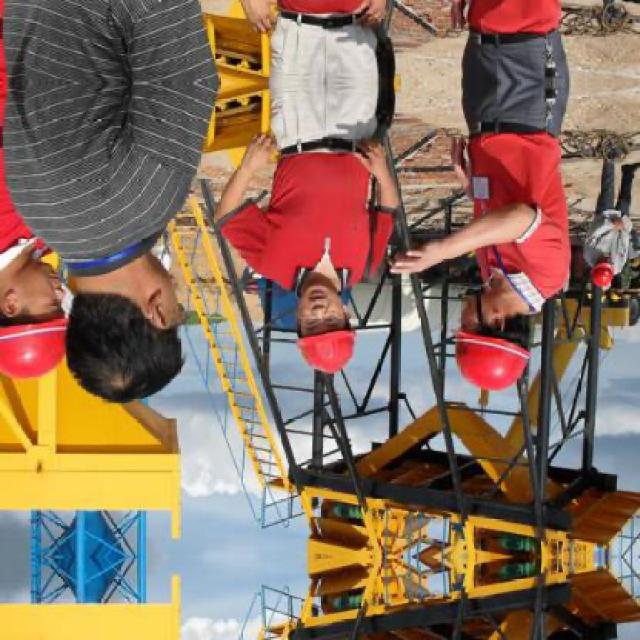con casco: (424, 318, 552, 389), (264, 296, 348, 384)
